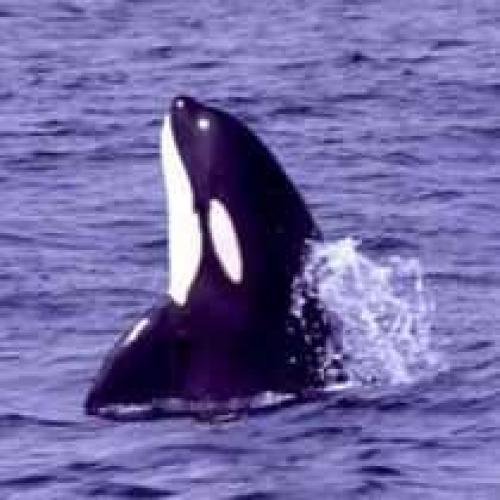killer_whale-endangered: (109, 51, 372, 409)
